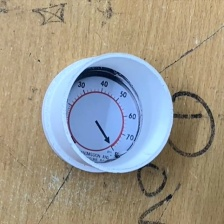gauge: (68, 74, 142, 163)
